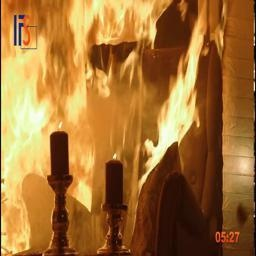fire: (3, 0, 202, 256)
